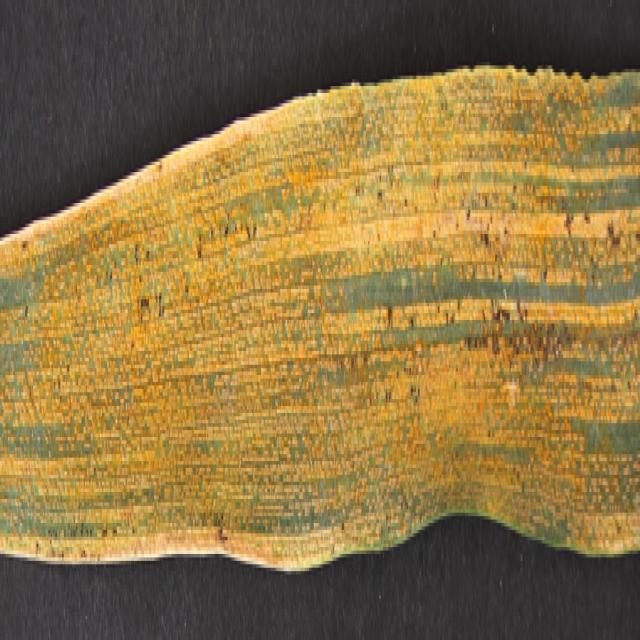leaf rust: (0, 75, 640, 578)
